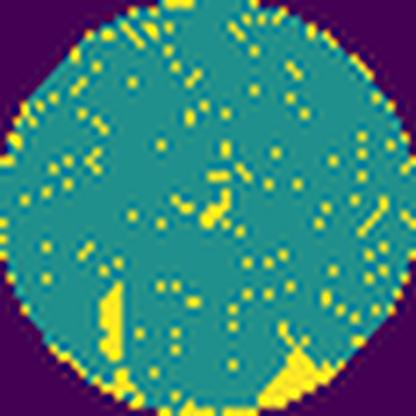Edge-Loc: (251, 323, 346, 416), (92, 271, 132, 416)
